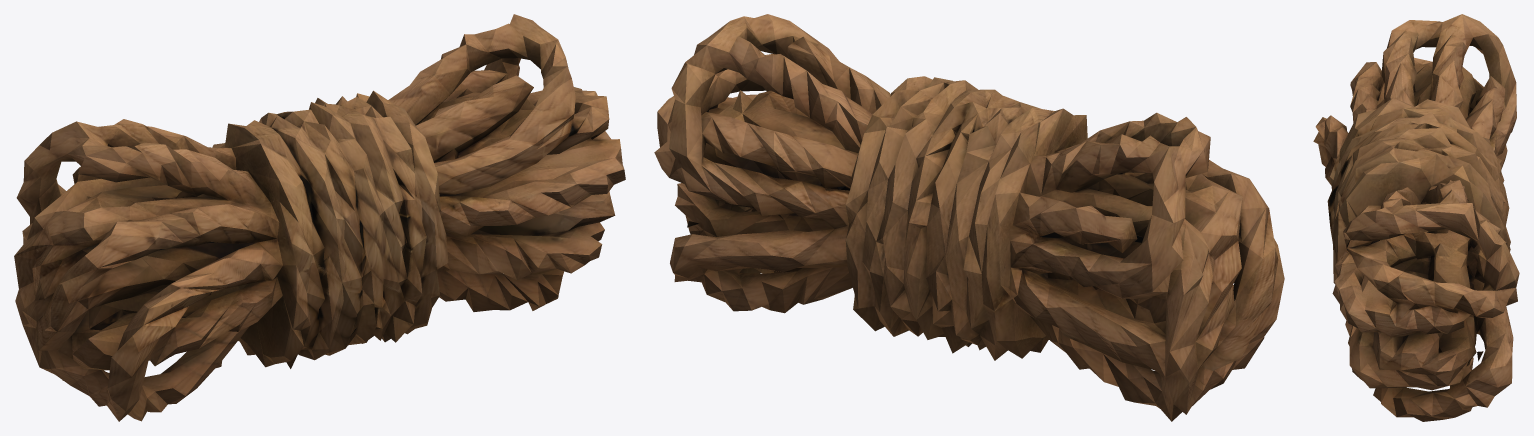
Rendered from base_basic_pbr.fbx.
3 views of the same model, side by side, from view 1: azimuth 30°, elevation 25°; view 2: azimuth 150°, elevation 25°; view 3: azimuth 270°, elevation 25° (orthographic). The views are drawn at different scales.
Parts seen in each view (by area): view 1: model; view 2: model; view 3: model.
Boxes of the visible parts, x1,y1,x2,y2 form: model: (14,14,625,421); model: (654,14,1284,421); model: (1313,14,1519,421).
Size of the model in its own units: 184 by 81.97 by 68.15.
1 material, 1 textured.
